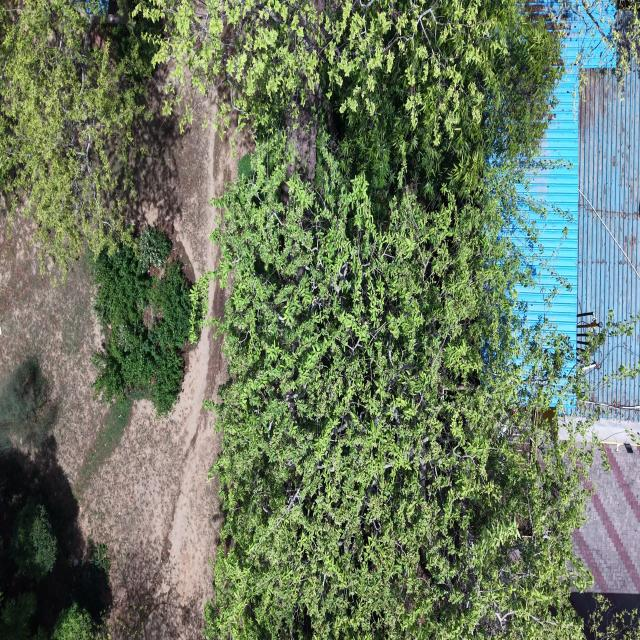DRY_AREA: (0, 219, 226, 638), (83, 330, 224, 637), (87, 329, 225, 637), (0, 218, 107, 478), (161, 329, 226, 614), (573, 443, 639, 597)
ROOFTOP_BUILDING: (521, 29, 639, 606), (520, 25, 639, 421), (520, 24, 614, 344), (574, 323, 639, 605), (577, 69, 639, 345), (571, 444, 639, 620), (574, 444, 639, 594)
VEGETATION_TREE: (0, 0, 592, 639), (139, 0, 591, 638), (207, 135, 590, 638), (137, 0, 561, 198), (0, 0, 191, 413), (0, 0, 190, 413), (0, 0, 154, 277), (0, 358, 110, 639), (0, 439, 111, 639), (94, 227, 191, 414), (550, 0, 639, 86), (76, 396, 133, 494), (0, 358, 57, 455), (0, 592, 104, 639), (12, 503, 57, 580), (587, 594, 639, 639), (0, 590, 47, 639), (0, 593, 46, 639), (51, 603, 96, 639), (138, 226, 171, 271)
